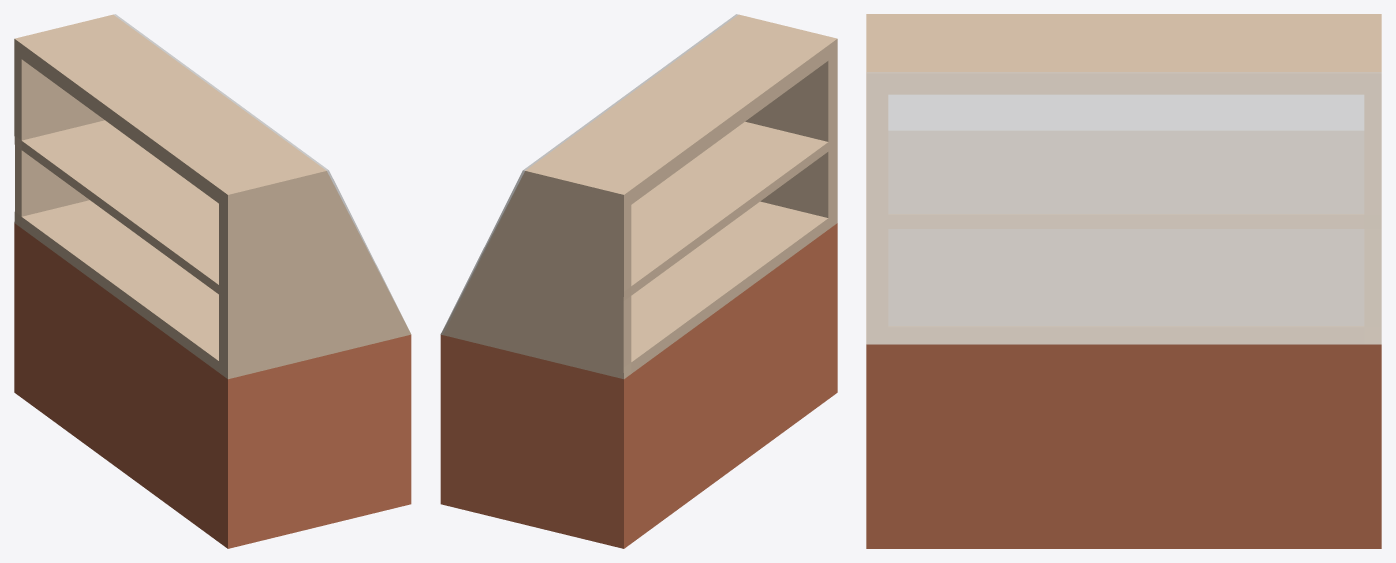
The model's file is SweetsCabnit.fbx.
3 renders of one model, left to right at view 1: azimuth 30°, elevation 25°; view 2: azimuth 150°, elevation 25°; view 3: azimuth 270°, elevation 25°, orthographic. The views are drawn at different scales.
Visible parts, largest first — view 1: Cabnit, Glass; view 2: Cabnit, Glass; view 3: Cabnit, Glass.
Boxes of the visible parts, <box> form: Cabnit: <box>14,14,411,548</box>; Glass: <box>113,14,408,328</box>; Cabnit: <box>440,14,837,548</box>; Glass: <box>440,14,738,334</box>; Cabnit: <box>866,14,1381,548</box>; Glass: <box>866,72,1381,344</box>.
Size of the model in its own units: 227 by 417 by 456.
